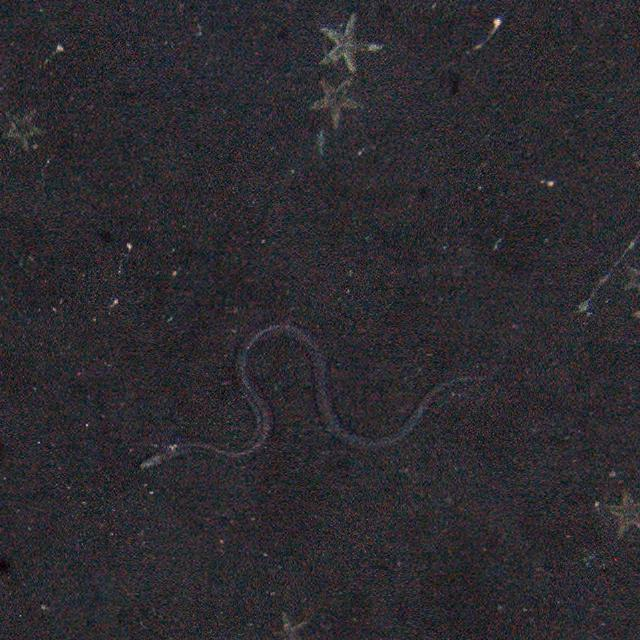eel: (136, 321, 493, 475)
